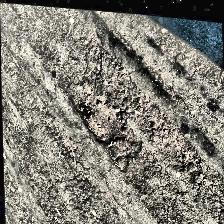pothole: (76, 83, 130, 147)
